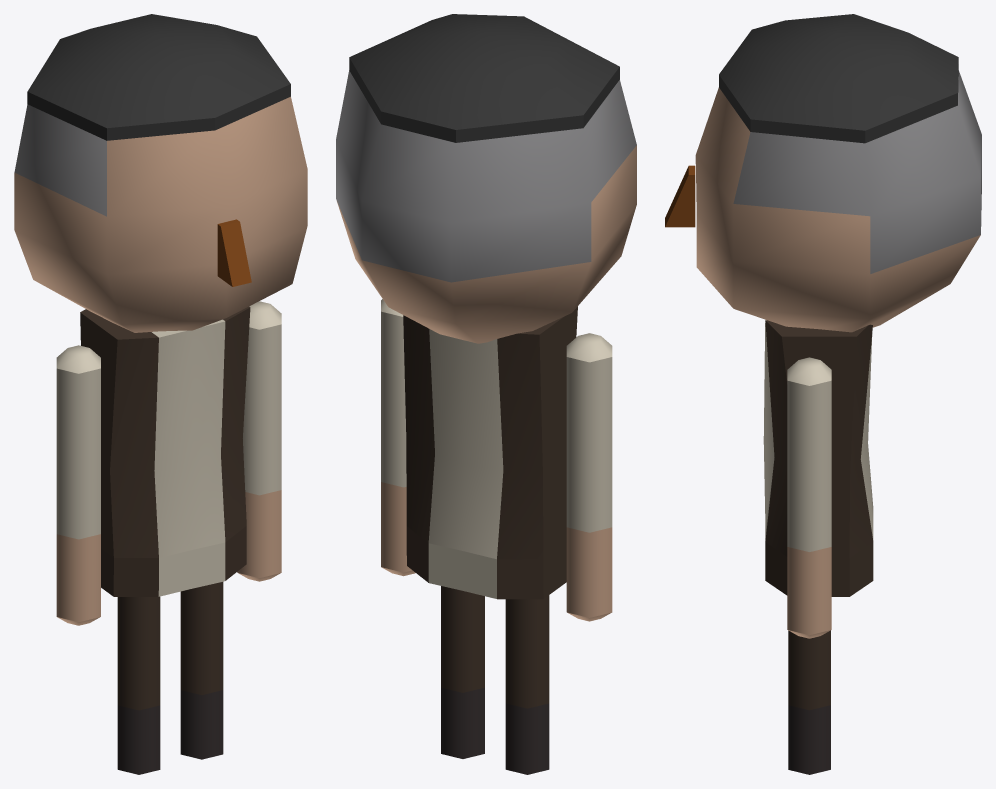
File: Villager_3.FBX
The picture shows the model from 3 angles, left to right: view 1: azimuth 30°, elevation 25°; view 2: azimuth 150°, elevation 25°; view 3: azimuth 270°, elevation 25°; orthographic projection. The views are drawn at different scales.
Parts seen in each view (by area): view 1: Box038; view 2: Box038; view 3: Box038.
Part boxes in pixels (left/top/right/bottom): Box038: left=14, top=14, right=307, bottom=774; Box038: left=336, top=14, right=636, bottom=774; Box038: left=665, top=14, right=981, bottom=774.
Bounding box in the file's own units: 29.27 × 79.99 × 32.13.
